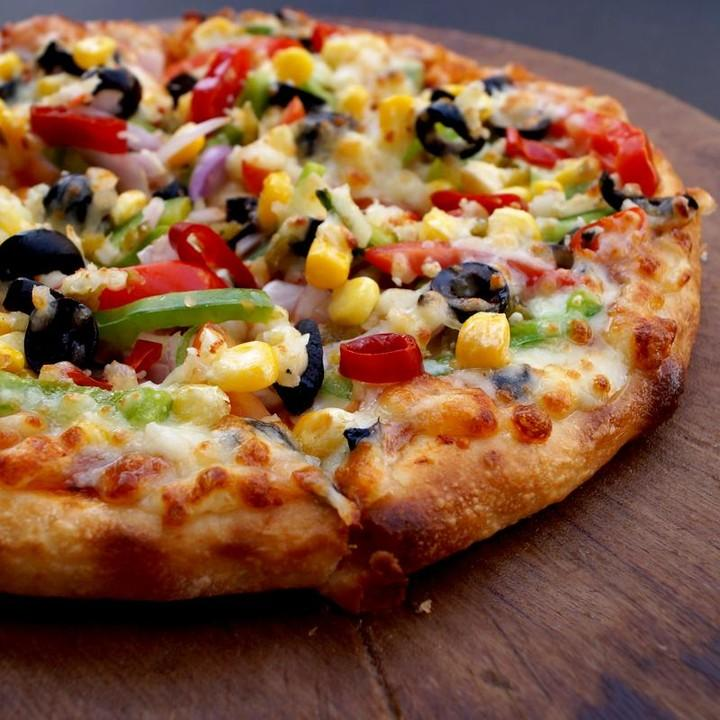Corn: (452, 308, 513, 368), (306, 230, 360, 287), (216, 345, 277, 389), (290, 412, 342, 454), (378, 95, 419, 144), (486, 205, 537, 240), (333, 279, 376, 320), (256, 175, 294, 221), (6, 313, 31, 372), (273, 48, 313, 83), (553, 156, 604, 182), (73, 35, 119, 62), (339, 85, 375, 116), (78, 163, 117, 190), (110, 190, 147, 217), (419, 212, 459, 236), (265, 128, 297, 149), (333, 139, 357, 157), (5, 49, 19, 77)
Olives: (6, 232, 98, 292), (433, 263, 517, 312), (420, 93, 481, 158), (39, 309, 96, 375), (602, 178, 692, 219), (276, 319, 322, 399), (99, 69, 139, 114), (46, 178, 89, 215), (485, 116, 555, 138), (45, 39, 82, 72), (223, 202, 265, 231), (170, 72, 197, 94)
Onion: (262, 279, 329, 323), (182, 139, 232, 197), (119, 126, 165, 177)
Peppers: (82, 283, 301, 341), (290, 156, 363, 230), (102, 200, 194, 256), (242, 72, 338, 118), (400, 130, 465, 189), (496, 303, 578, 346), (540, 203, 617, 243), (569, 279, 607, 316)
Pizza: (3, 13, 702, 605)
Tomatoes: (369, 238, 564, 295), (80, 263, 220, 301), (188, 50, 256, 118), (29, 106, 128, 152), (179, 223, 253, 282), (338, 335, 425, 381), (608, 123, 661, 197), (497, 127, 565, 170), (553, 112, 616, 146)
